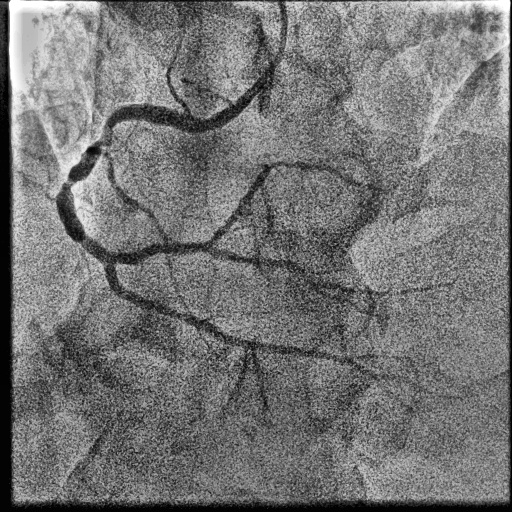pborca: (206, 161, 390, 246)
pda: (206, 248, 454, 297)
rca: (57, 99, 250, 265)
